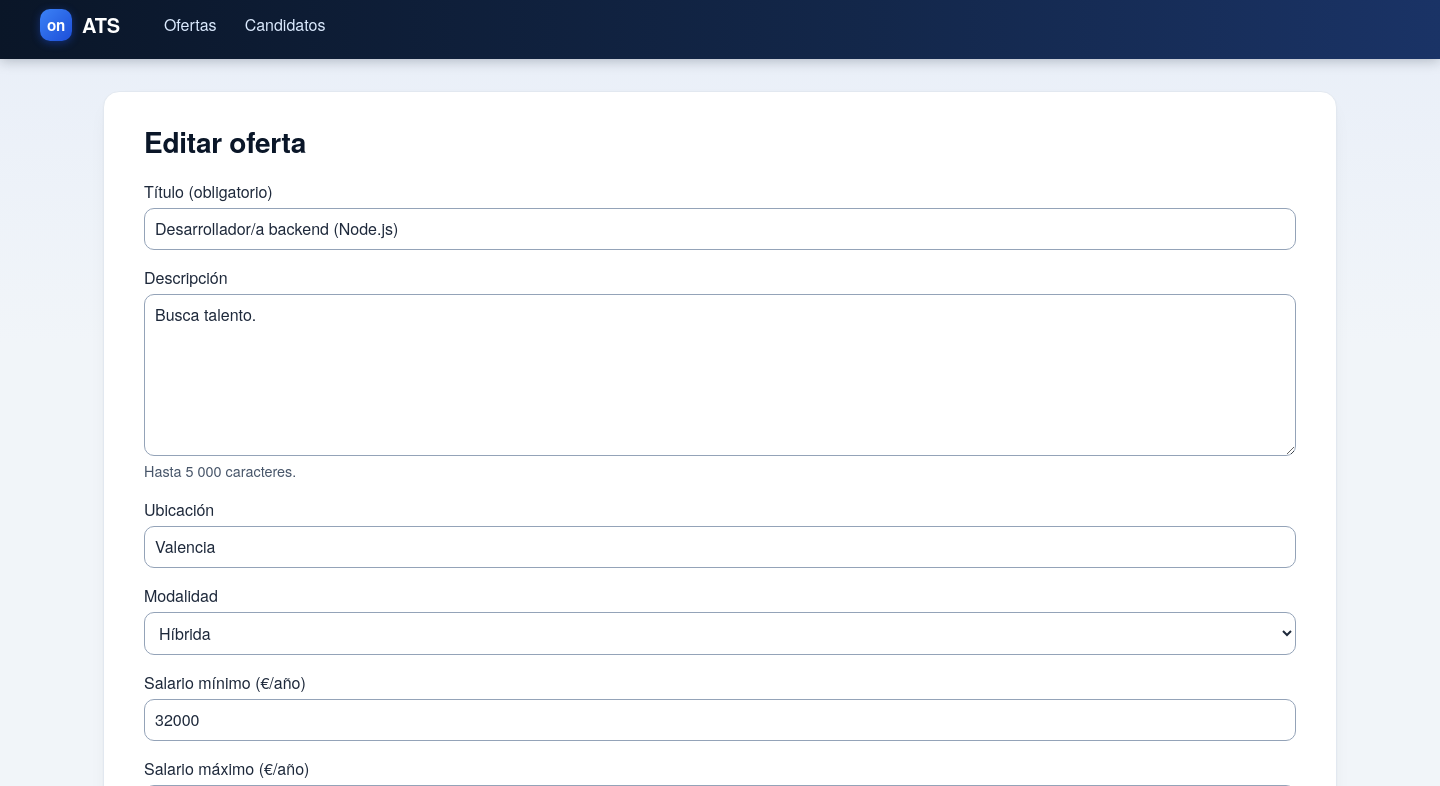
JobFormScreen · edición › un 500 muestra la alerta, conserva lo escrito y reactiva «Guardar» (EC-22)
Expected: the heading "Editar oferta" is shown, [144,121,306,162]
Replace the text in the text box labelled "Descripción" with "Texto que no se debe perder" at (720, 375), box [144,294,1296,456]
(page scrolled)
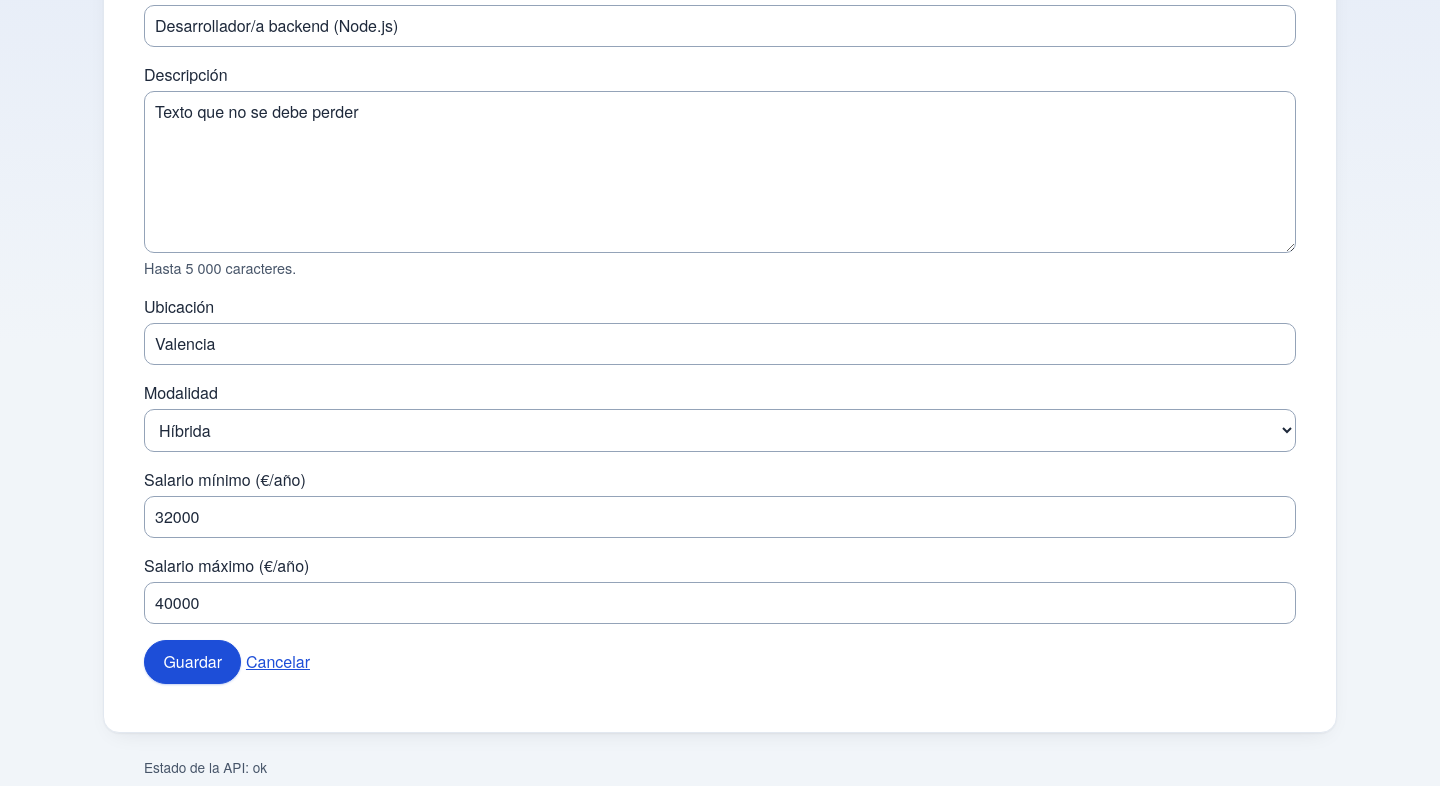
Click the button "Guardar" at (193, 662), box [144,640,242,684]
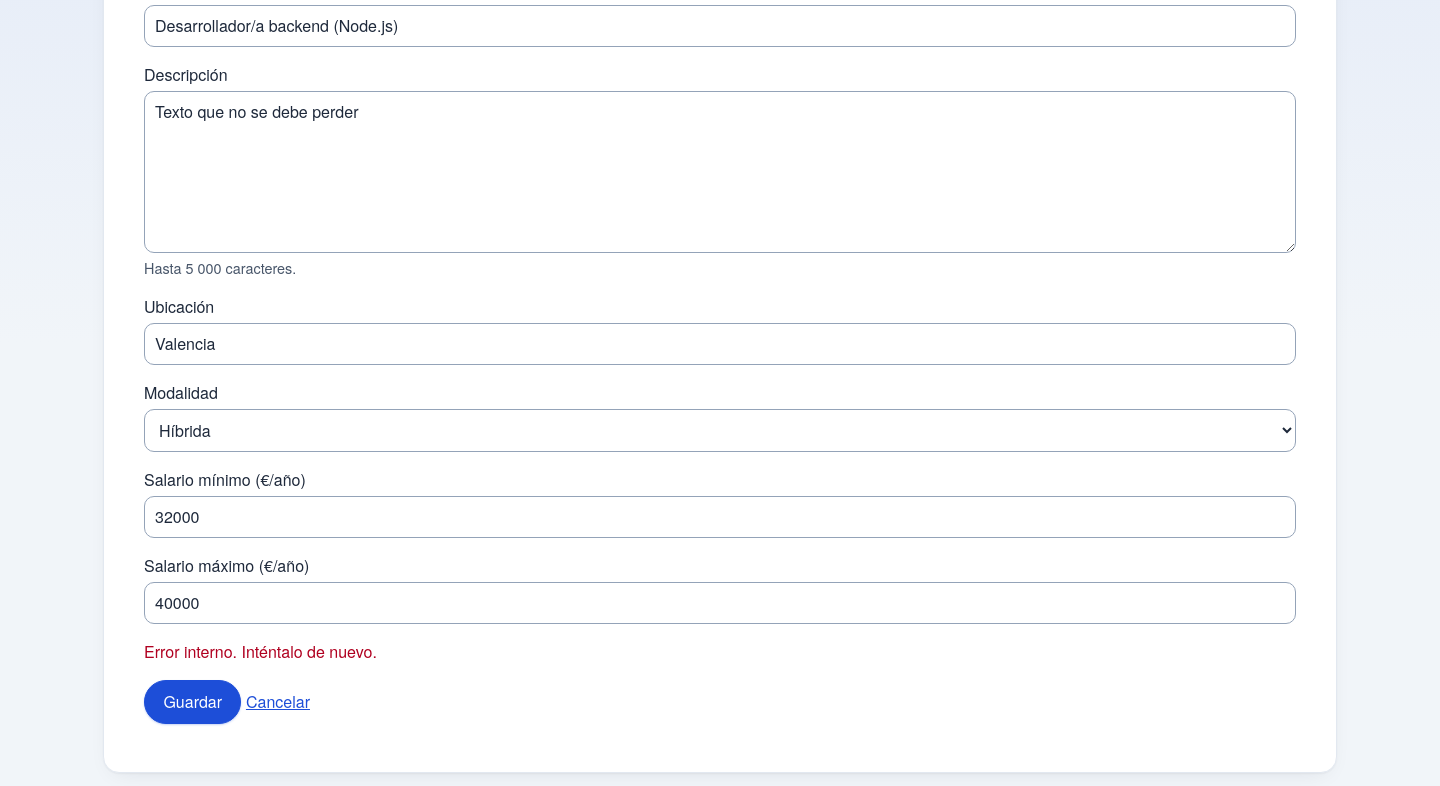
Expected: the button "Guardar" is enabled, [144,680,242,724]
Now the message "Error interno. Inténtalo de nuevo." is shown, box [144,640,377,663]
